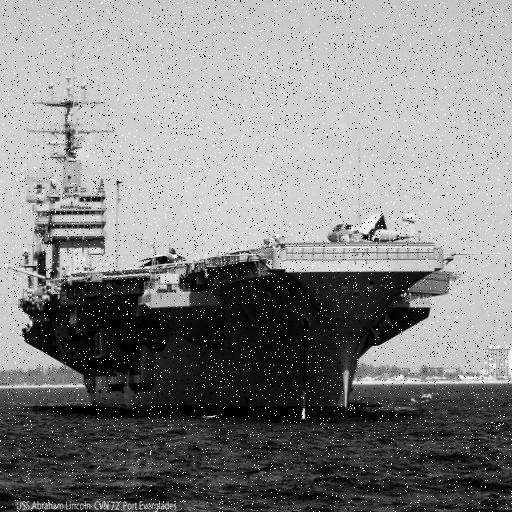Portanaves: (9, 30, 458, 427)
